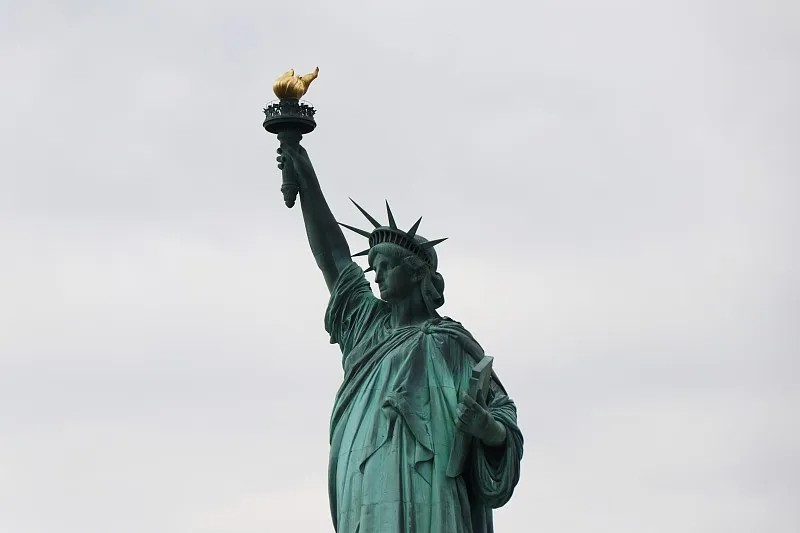SL: (262, 65, 525, 533)
